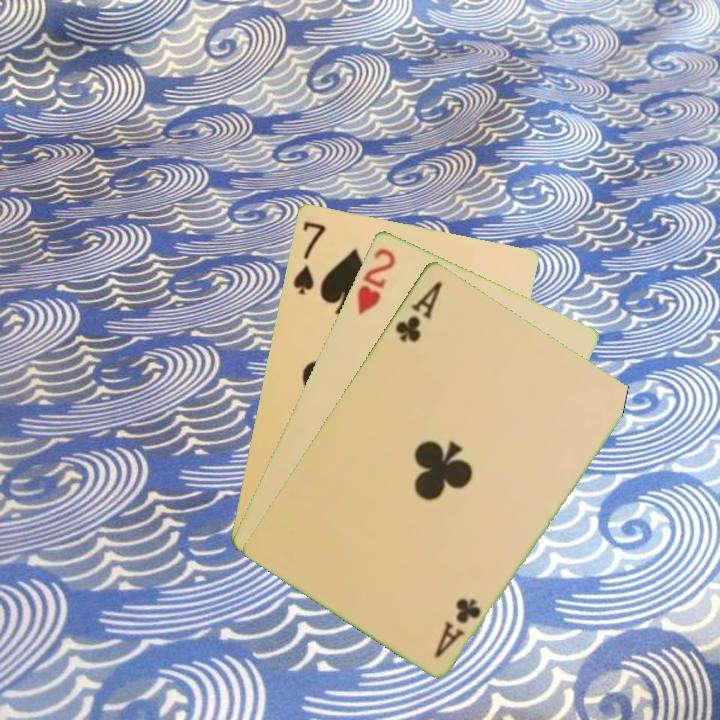2h: (353, 244, 399, 317)
7s: (289, 217, 329, 297)
Ac: (391, 277, 445, 345), (430, 593, 484, 661)
